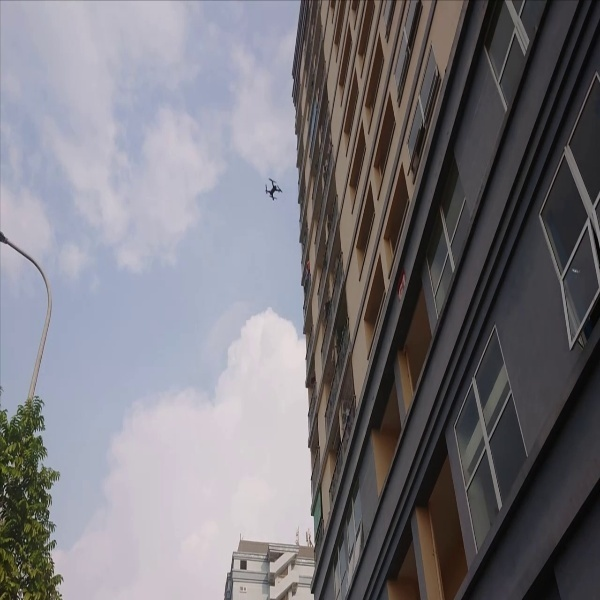drone: (260, 170, 290, 204)
